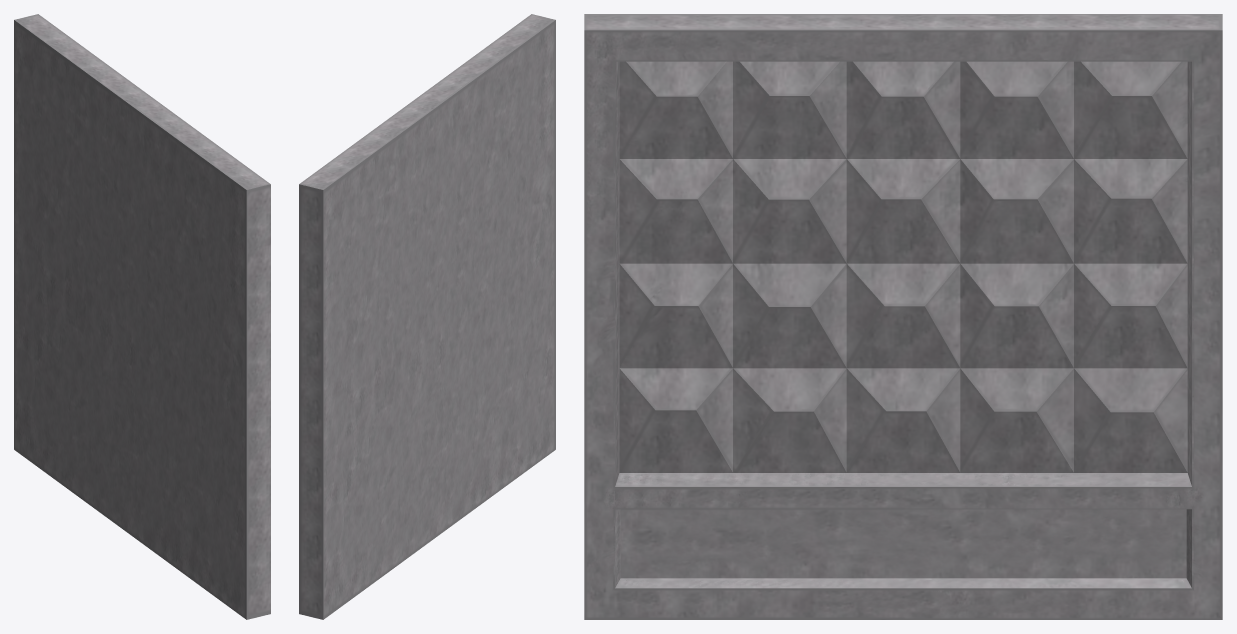
The model's file is Fence.glb.
3 views of the same model, side by side, from view 1: azimuth 30°, elevation 25°; view 2: azimuth 150°, elevation 25°; view 3: azimuth 270°, elevation 25° (orthographic). The views are drawn at different scales.
Visible parts, largest first — view 1: Segment(Short); view 2: Segment(Short); view 3: Segment(Short).
Boxes of the visible parts, box(x1,y1,x2,y2) form: Segment(Short): box(14, 14, 270, 619); Segment(Short): box(299, 14, 555, 619); Segment(Short): box(584, 14, 1222, 619).
Bounding box in the file's own units: 0.15 × 2.55 × 2.5.
1 material, 1 textured.
